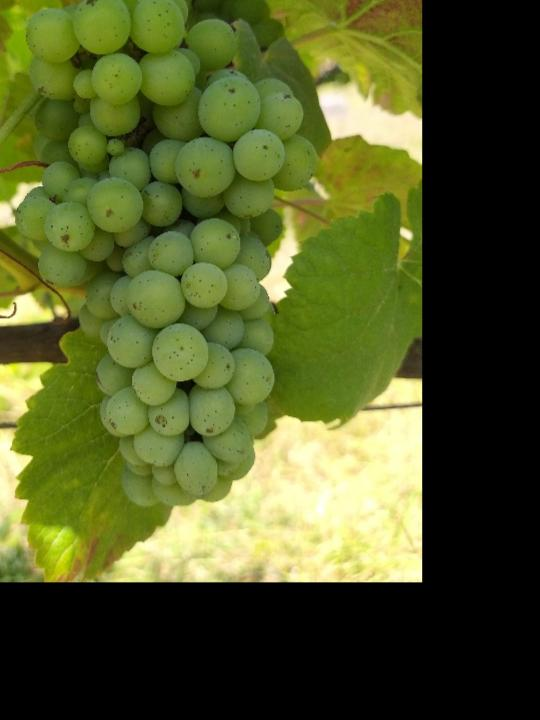grape: (13, 0, 319, 510)
